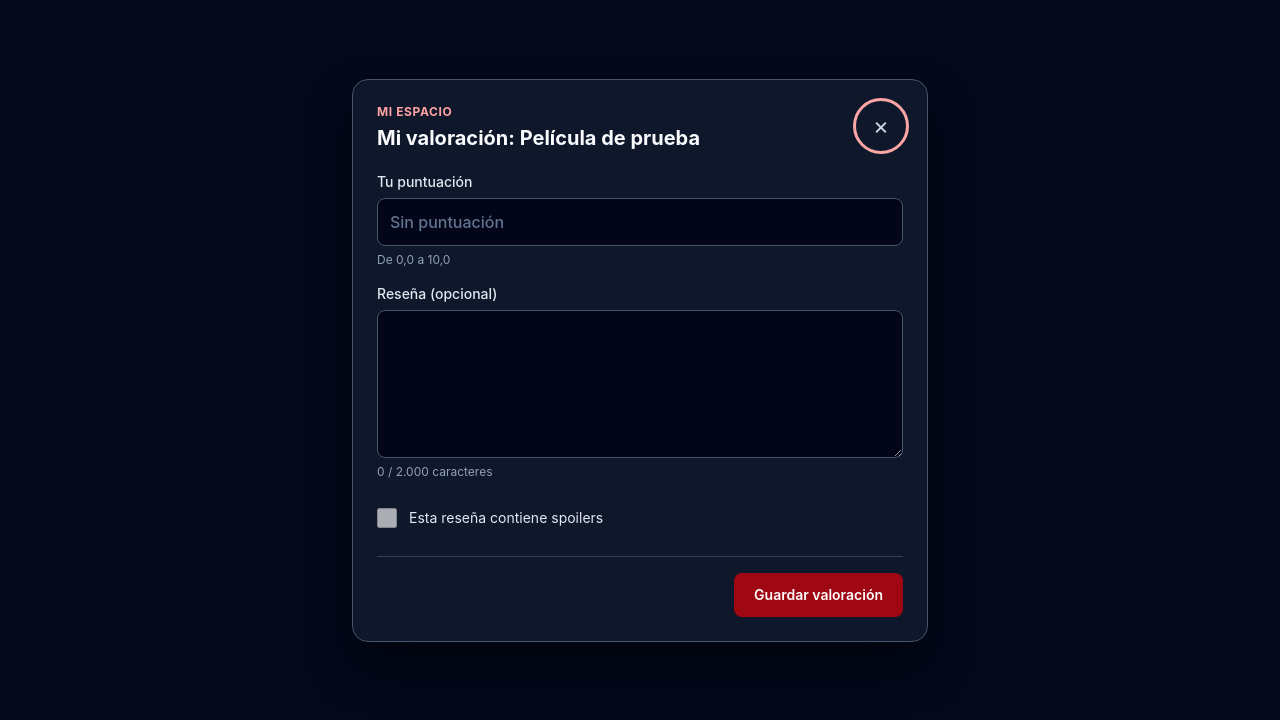
Test: RatingDialog › loads an absent rating and saves score zero as distinct from null
Expected: the button "Guardar valoración" is shown, [734,572,903,616]
Step 1. Type "0" into the number field labelled "Tu puntuación De 0,0 a 10,0" → (640, 222), box [377,198,903,246]
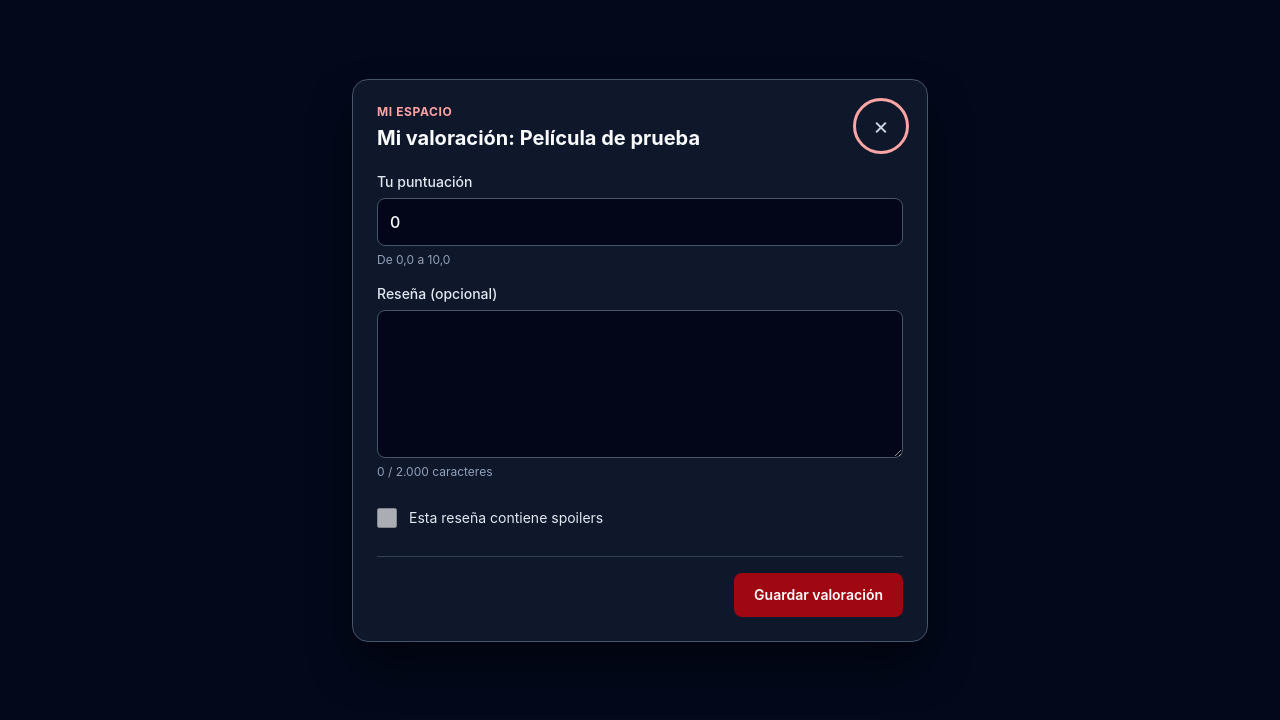
Step 2. Click the button "Guardar valoración" → (819, 594), box [734,572,903,616]
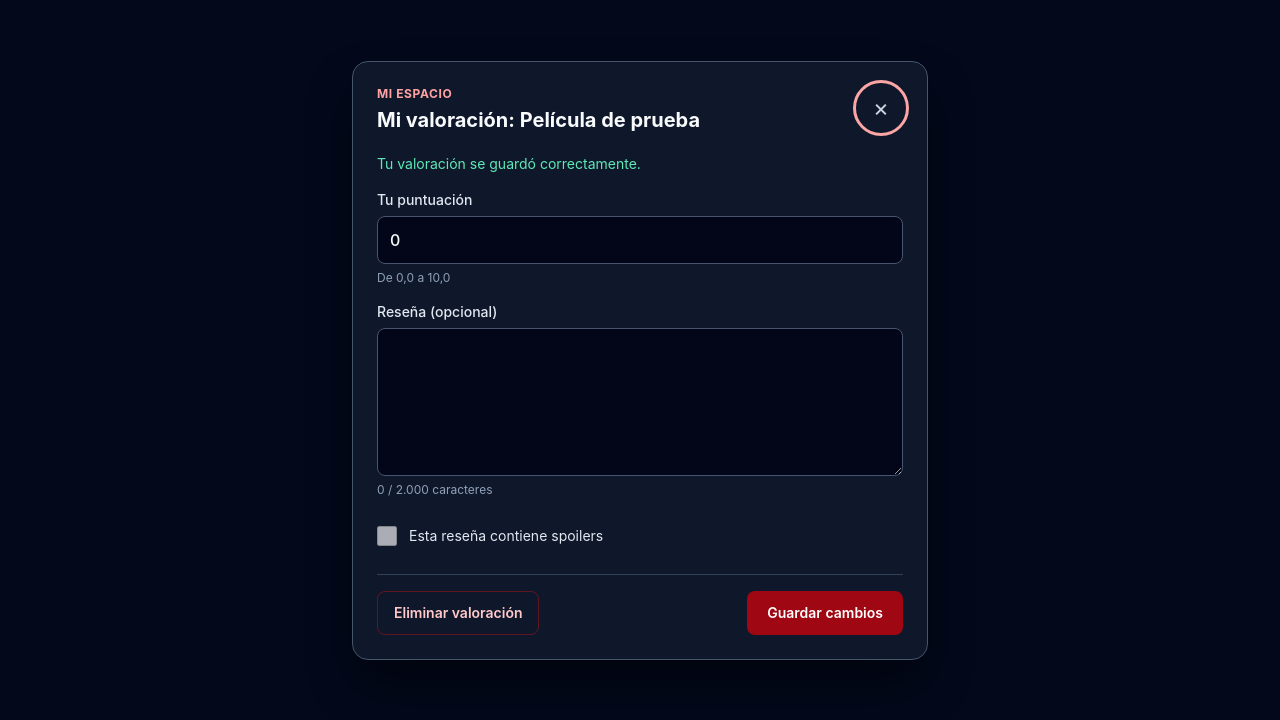
Expected: the text "Tu valoración se guardó correctamente." is shown, [377,154,641,172]
